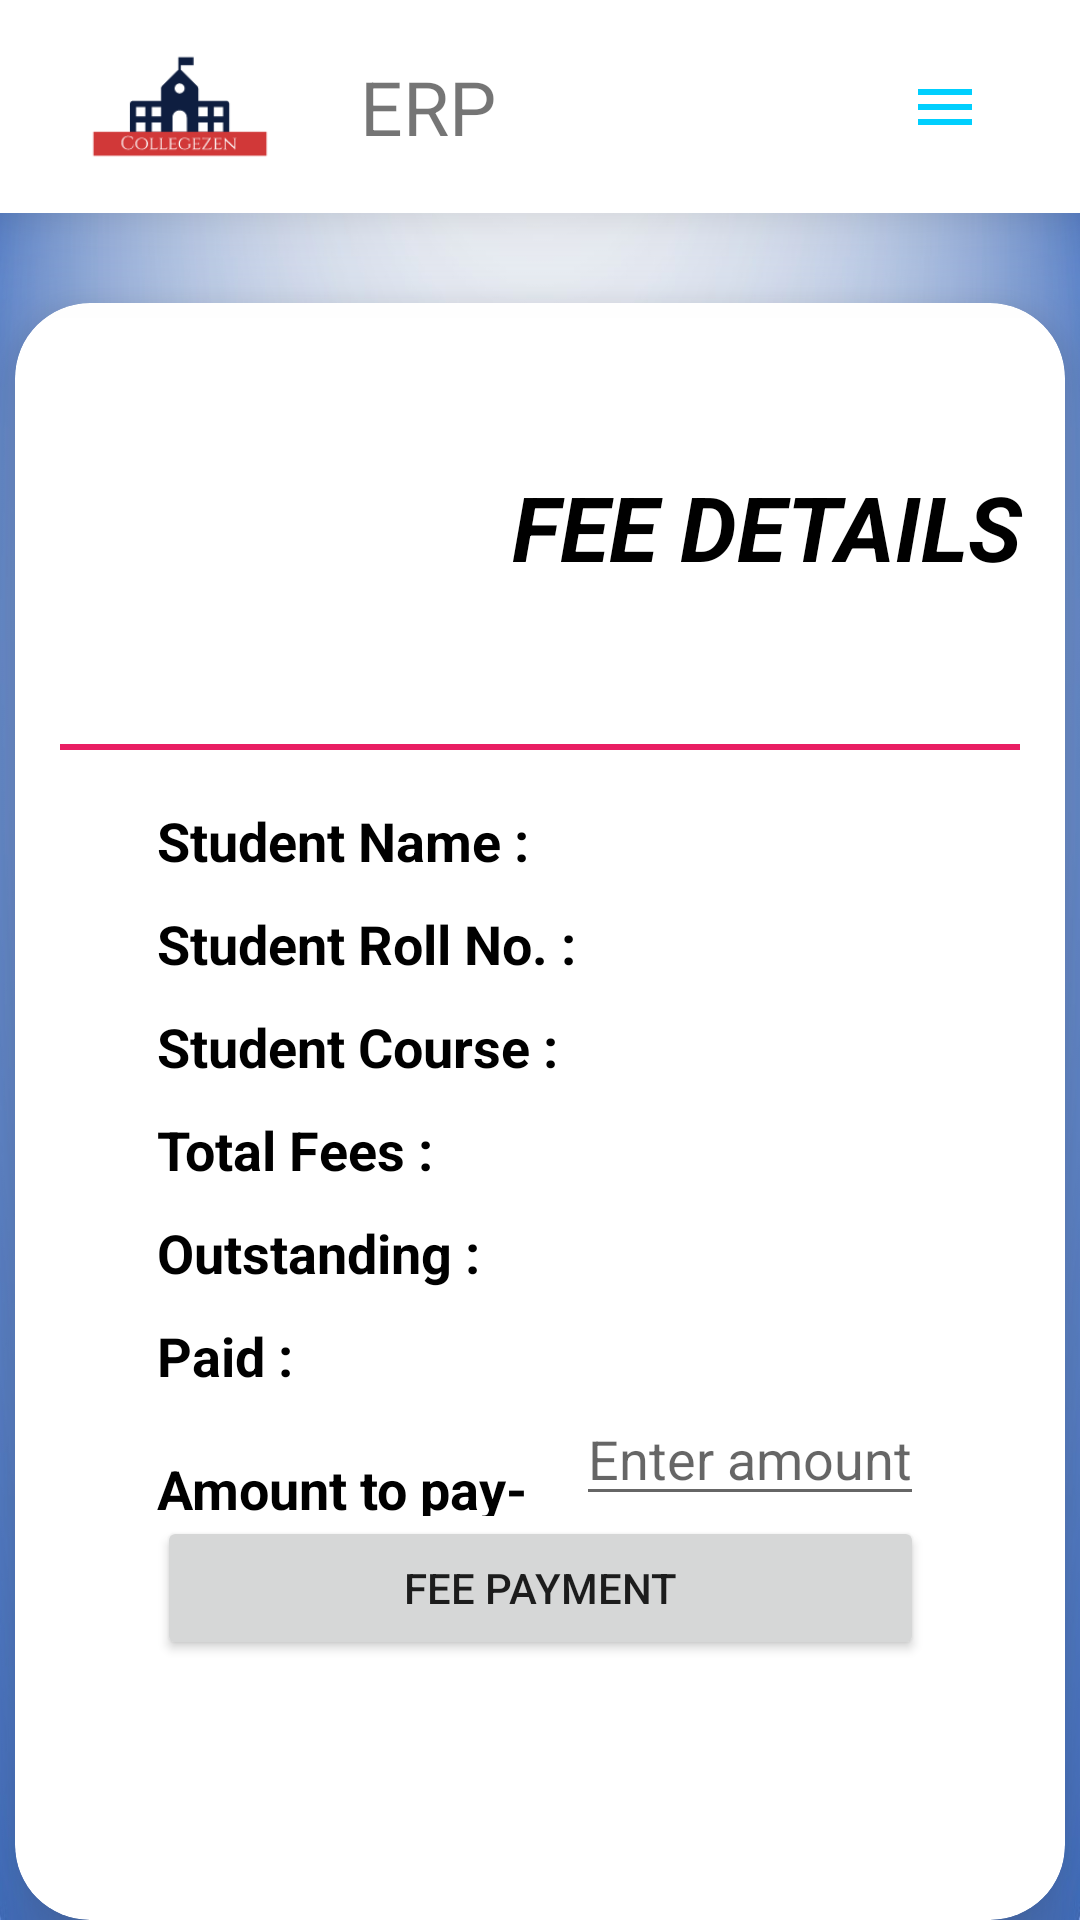

Screen size 1080 × 1920. Icon name, then its box in pixels as (x1, y1, x2, y2):
menu: (918, 89, 972, 125)
